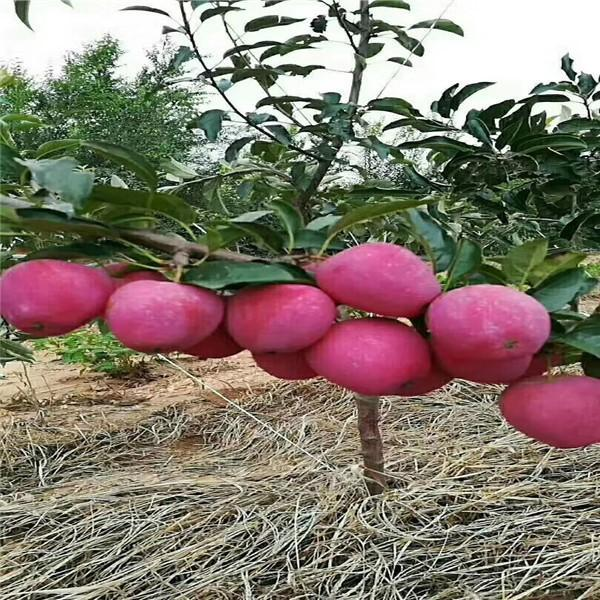apple: (424, 283, 553, 382), (306, 317, 430, 398), (315, 240, 439, 316), (104, 276, 221, 353), (224, 281, 331, 354), (500, 373, 600, 451), (1, 261, 107, 334)
